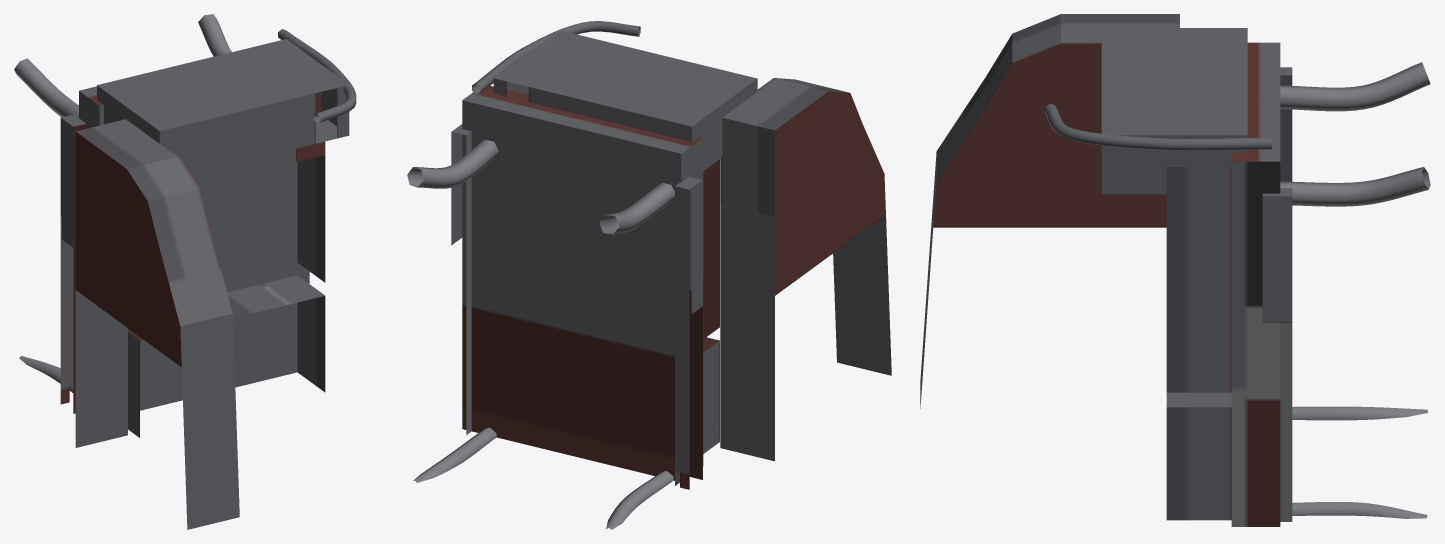
The model's file is section-0.obj.
The picture shows the model from 3 angles, left to right: view 1: azimuth 30°, elevation 25°; view 2: azimuth 150°, elevation 25°; view 3: azimuth 270°, elevation 25°; orthographic projection. The views are drawn at different scales.
Bounding box in the file's own units: 0.702 × 0.9018 × 1.02.
